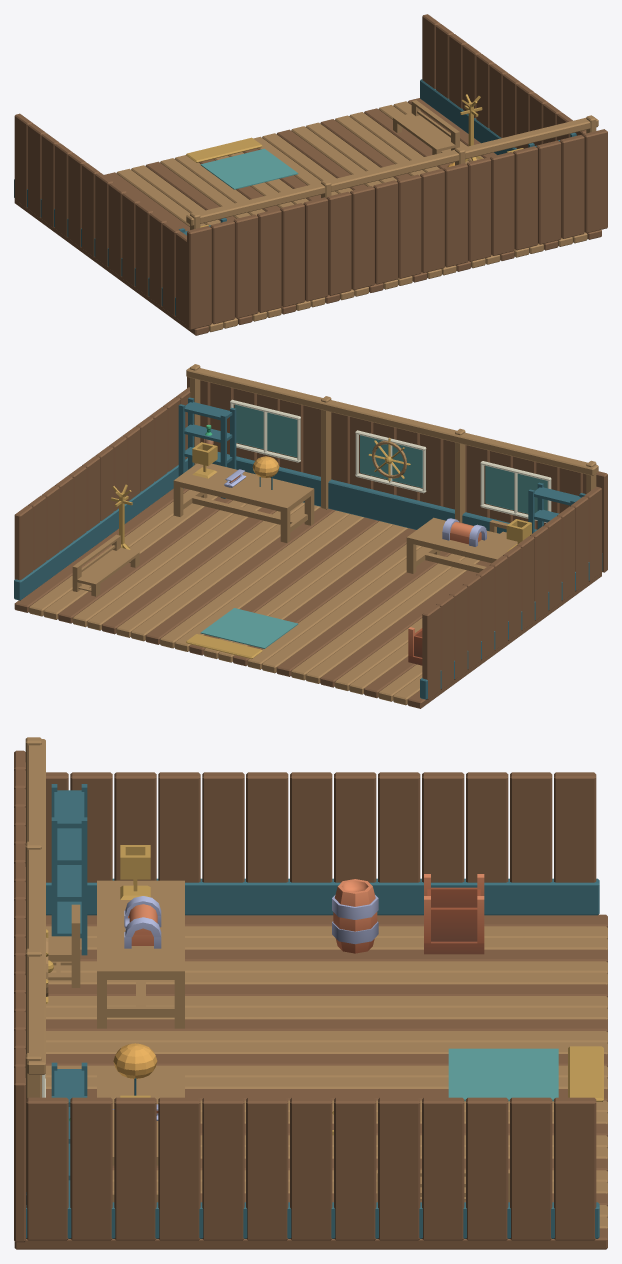
File: harbor-workshop.glb
3 views of the same model, one above another, from view 1: azimuth 30°, elevation 25°; view 2: azimuth 150°, elevation 25°; view 3: azimuth 270°, elevation 25° (orthographic). The views are drawn at different scales.
Parts seen in each view (by area): view 1: back beam, back wall oak board.017, back wall oak board.009, back wall oak board.002, back wall oak board.012, back wall oak board.016, back wall oak board, back wall oak board.004, back wall oak board.005, back wall oak board.006, back wall oak board.007, back wall oak board.011 (+55 smaller); view 2: table(Clone), back beam, back blue wainscot, blue side skirting, table(Clone).001, oak floor plank 10, bookcaseOpen(Clone), oak floor plank 09, oak floor plank 11, oak floor plank 07, oak floor plank 20, oak floor plank 04 (+77 smaller); view 3: blue side skirting.001, table(Clone).001, oak floor plank 17, oak floor plank 18, oak floor plank 19, oak floor plank 21, oak floor plank 20, oak floor plank 22, sidewall oak board.002, sidewall oak board.003, sidewall oak board.004, sidewall oak board.005 (+47 smaller).
Part boxes in pixels (x1,y1,x2,y2): back beam: (186, 116, 598, 225); back wall oak board.017: (187, 226, 211, 329); back wall oak board.009: (373, 180, 398, 284); back wall oak board.002: (536, 140, 561, 244); back wall oak board.012: (303, 197, 328, 301); back wall oak board.016: (210, 220, 235, 324); back wall oak board: (583, 129, 607, 233); back wall oak board.004: (490, 152, 514, 255); back wall oak board.005: (466, 157, 491, 261); back wall oak board.006: (443, 163, 468, 267); back wall oak board.007: (420, 169, 444, 272); back wall oak board.011: (326, 191, 351, 295); table(Clone): (173, 463, 314, 543); back beam: (186, 366, 598, 475); back blue wainscot: (212, 452, 537, 533); blue side skirting: (14, 458, 187, 600); table(Clone).001: (406, 517, 517, 573); oak floor plank 10: (160, 510, 349, 648); bookcaseOpen(Clone): (178, 397, 236, 498); oak floor plank 09: (145, 507, 335, 644); oak floor plank 11: (174, 514, 364, 651); oak floor plank 07: (116, 502, 304, 637); oak floor plank 20: (305, 557, 480, 683); oak floor plank 04: (72, 500, 247, 627); blue side skirting.001: (46, 878, 599, 915); table(Clone).001: (97, 880, 184, 1028); oak floor plank 17: (46, 1031, 607, 1043); oak floor plank 18: (46, 1019, 607, 1031); oak floor plank 19: (46, 1007, 607, 1020); oak floor plank 21: (48, 984, 607, 997); oak floor plank 20: (46, 996, 607, 1008); oak floor plank 22: (48, 972, 607, 985); sidewall oak board.002: (466, 1097, 508, 1240); sidewall oak board.003: (422, 1097, 464, 1240); sidewall oak board.004: (378, 1097, 420, 1240); sidewall oak board.005: (334, 1097, 376, 1240).
Size of the model in its own units: 14.37 by 3.84 by 10.81.
13 materials, 5 textured.
